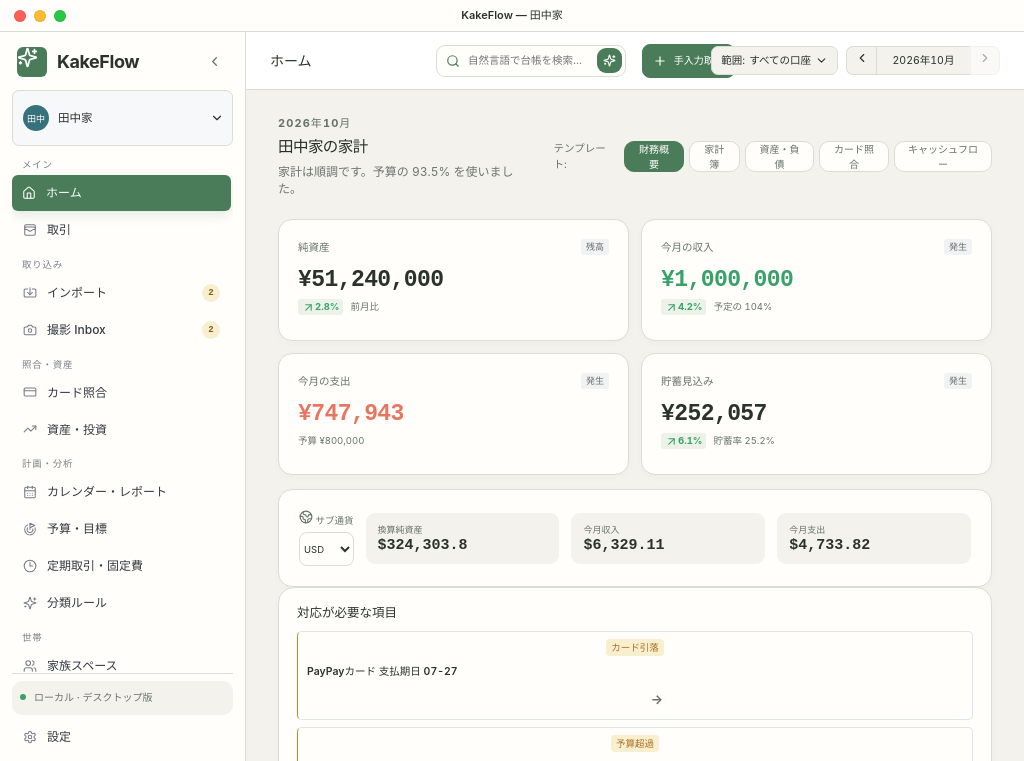
Test: KakeFlow application shell › keeps the manual connector summary read-only when binding management is unavailable in the browser runtime
Click the button "設定" at (122, 737), box x1=12 y1=719 x2=233 y2=755
(page scrolled)
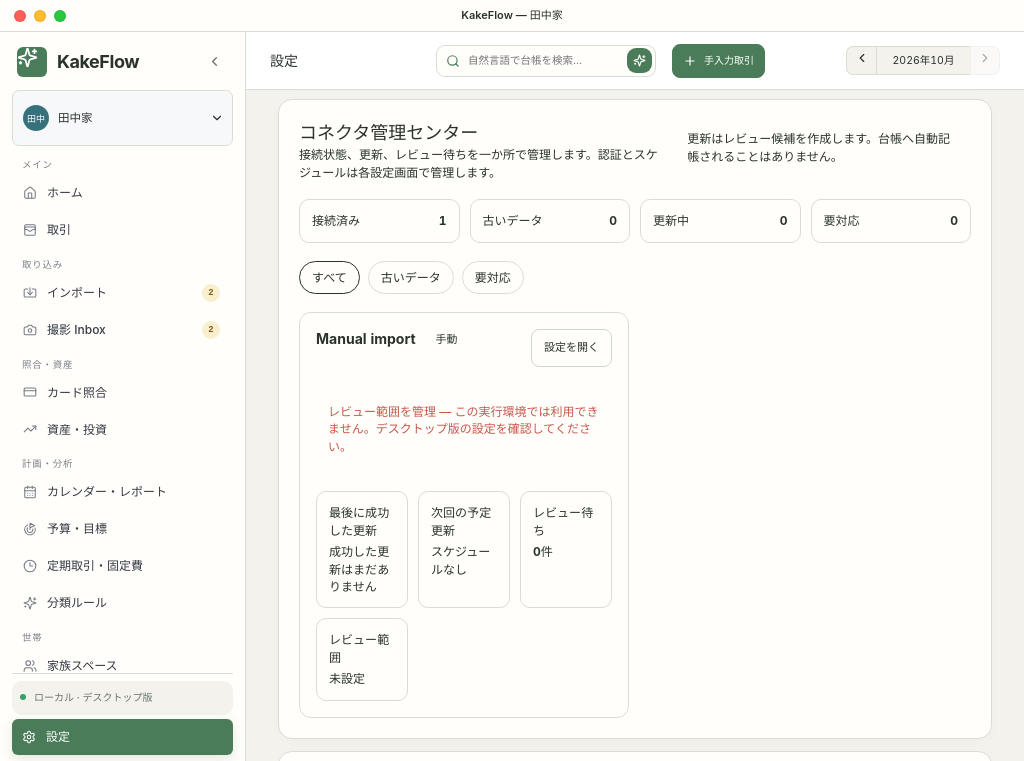
expect the text "レビュー範囲を管理 — この実行環境では利用できません。デスクトップ版の設定を確認してください。" is shown: met, box x1=316 y1=393 x2=612 y2=465
